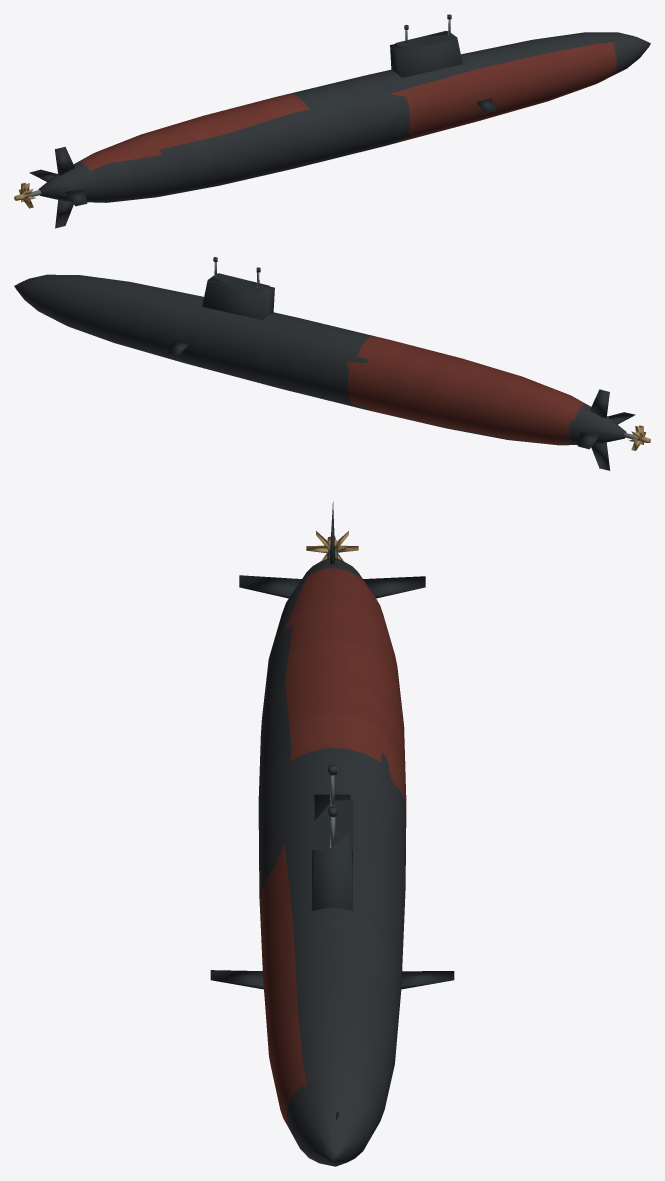
The model's file is US_SSN_Sturgeon_LOD3.fbx.
The picture shows the model from 3 angles, top to bottom: view 1: azimuth 30°, elevation 25°; view 2: azimuth 150°, elevation 25°; view 3: azimuth 270°, elevation 25°; orthographic projection. The views are drawn at different scales.
Visible parts, largest first — view 1: US_SSN_Sturgeon_LOD3; view 2: US_SSN_Sturgeon_LOD3; view 3: US_SSN_Sturgeon_LOD3.
Part boxes in pixels (x1,y1,x2,y2): US_SSN_Sturgeon_LOD3: [14, 14, 650, 228]; US_SSN_Sturgeon_LOD3: [14, 257, 650, 470]; US_SSN_Sturgeon_LOD3: [210, 502, 454, 1166].
Size of the model in its own units: 95.88 by 15.92 by 16.85.
6 materials, 1 textured.
